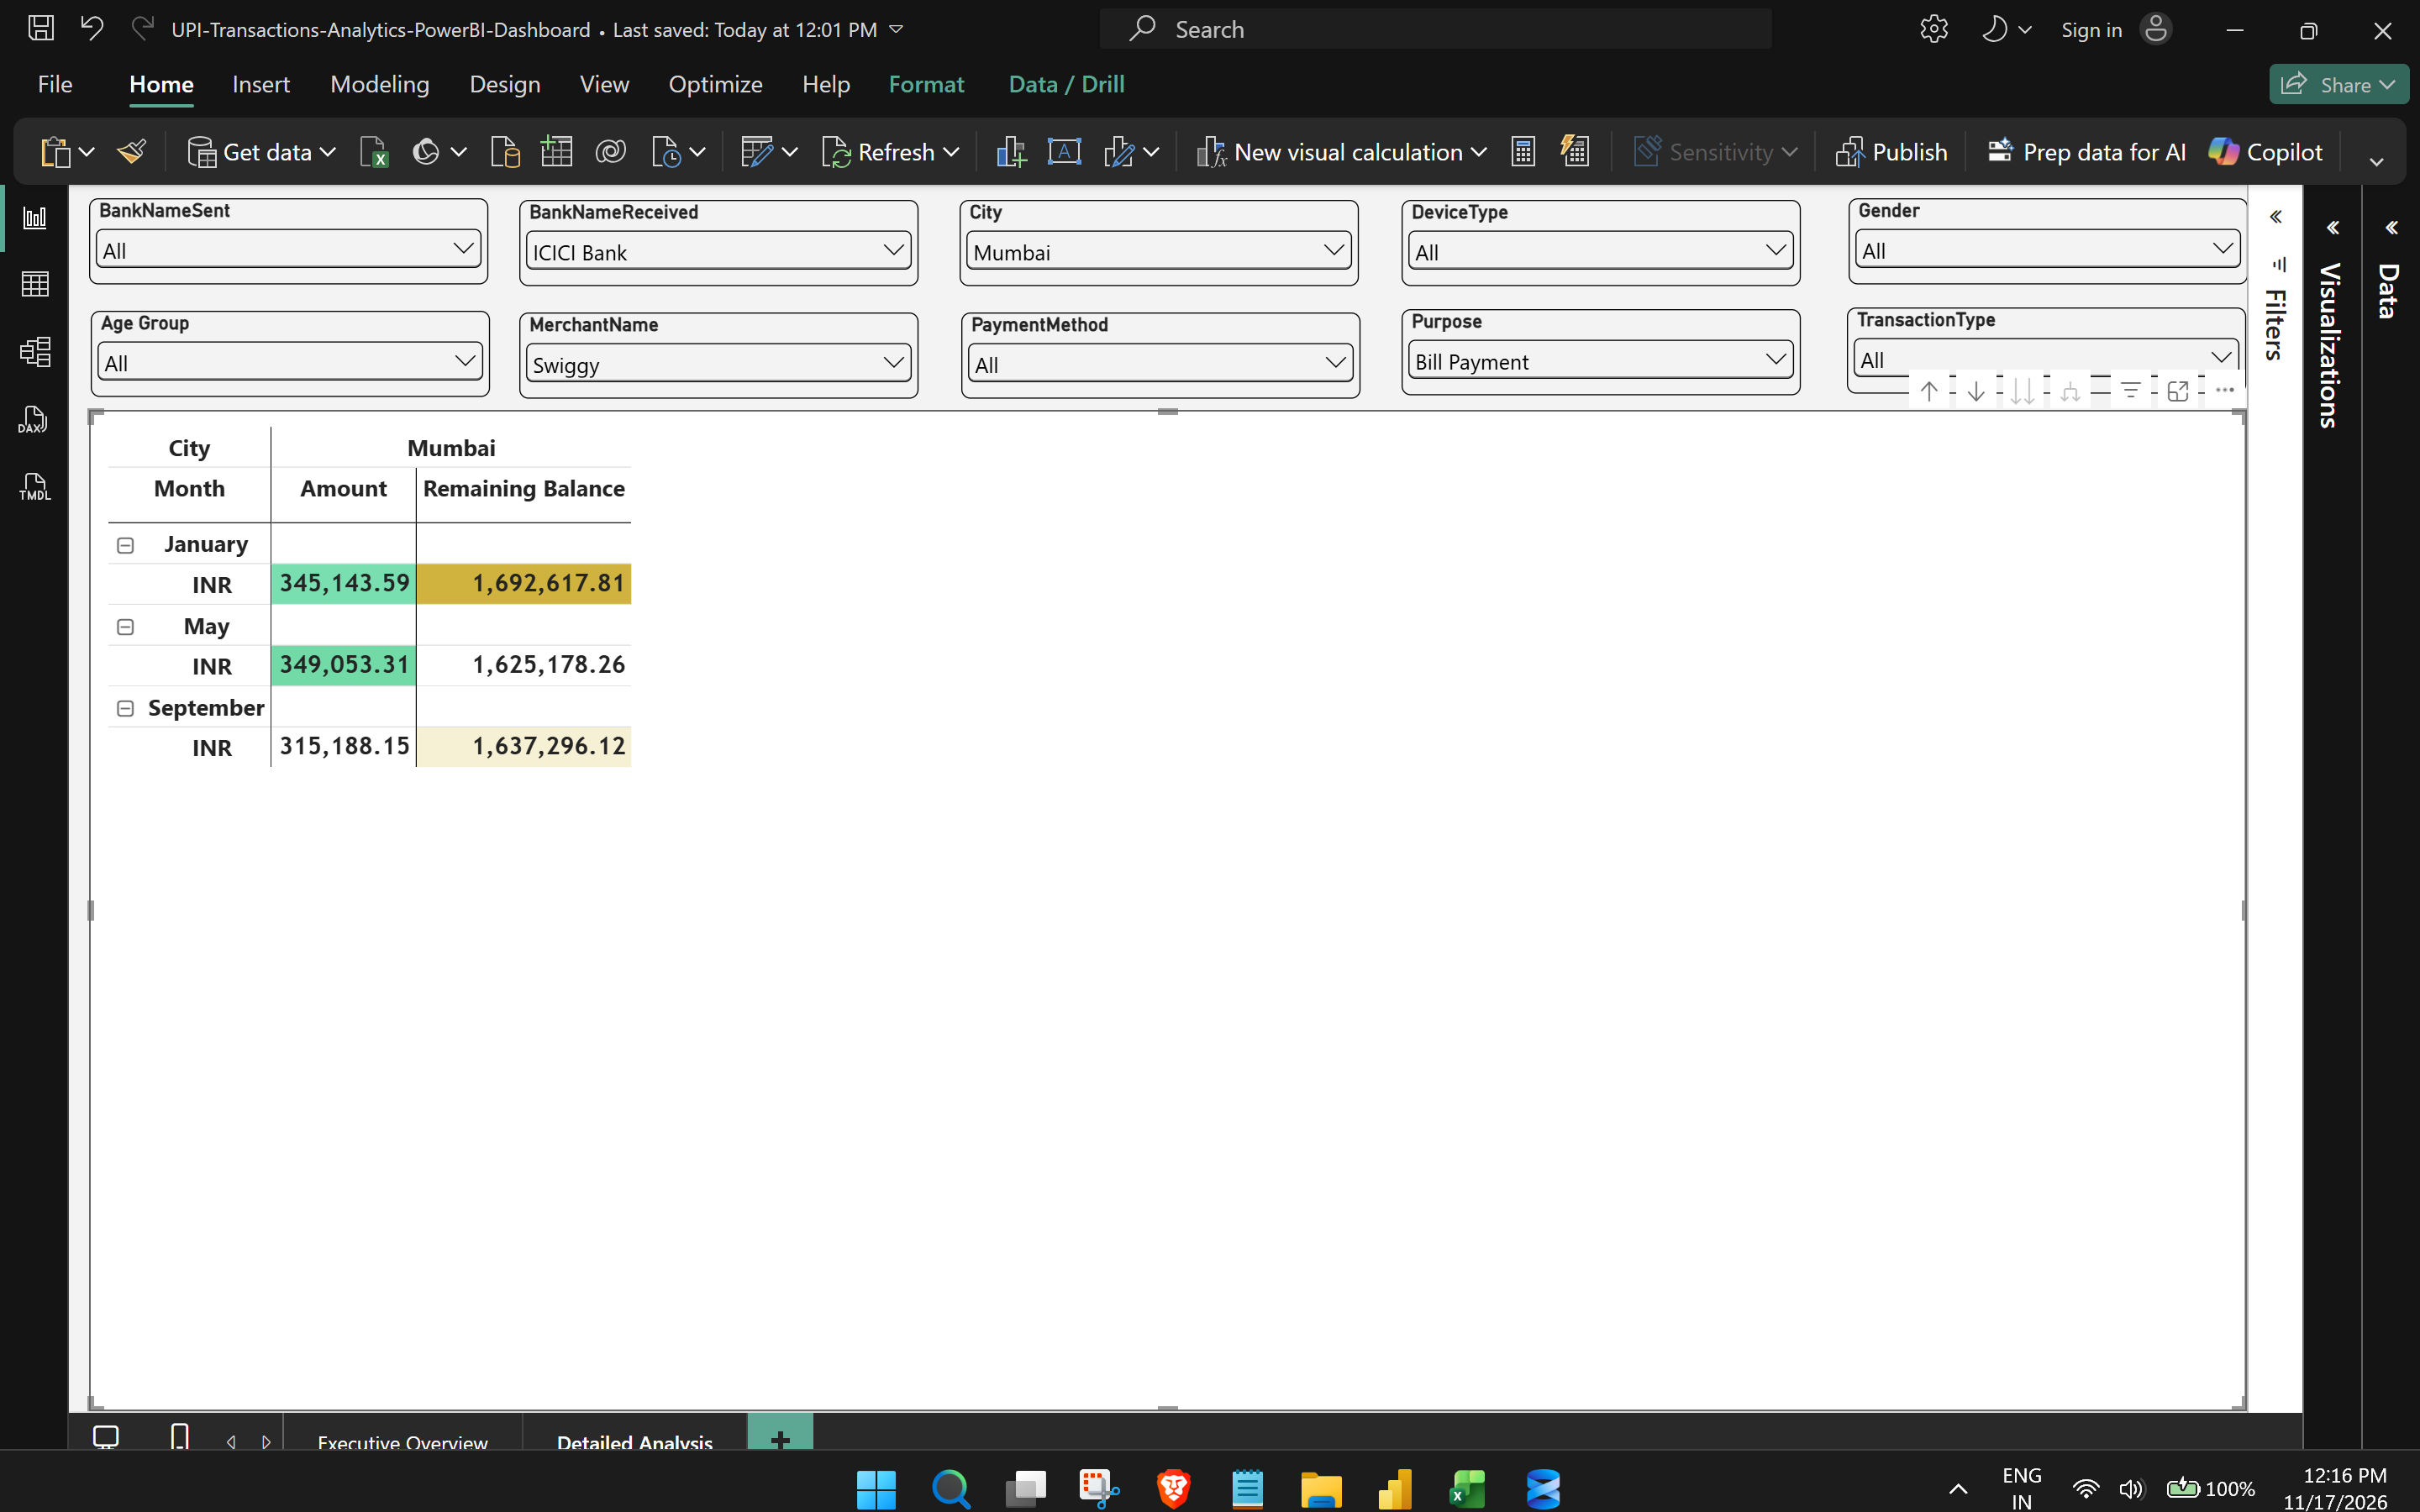

The page's visual inventory and layout, read from the dashboard file:
{"tool":"powerbi","page":{"name":"Detailed Analysis","canvas":[1920,1080],"ordinal":1},"visuals":[{"type":"slicer","fields":{"Values":["upi transection.BankNameReceived"]},"box":[397.6,11.4,351.8,75.9],"z":0},{"type":"slicer","fields":{"Values":["upi transection.BankNameSent"]},"box":[18.5,11.1,351.8,75.9],"z":1000},{"type":"slicer","fields":{"Values":["upi transection.DeviceType"]},"box":[1175,11.4,351.8,75.9],"z":2000},{"type":"slicer","fields":{"Values":["upi transection.City"]},"box":[785.5,11.4,351.8,75.9],"z":3000},{"type":"slicer","fields":{"Values":["upi transection.Gender"]},"box":[1568.2,11.1,351.8,75.9],"z":4000},{"type":"slicer","fields":{"Values":["upi transection.MerchantName"]},"box":[397.4,110.8,351.8,75.9],"z":5000},{"type":"slicer","fields":{"Values":["upi transection.Age Group"]},"box":[19.2,109.3,351.8,75.9],"z":6000},{"type":"slicer","fields":{"Values":["upi transection.Purpose"]},"box":[1174.6,107.9,351.8,75.9],"z":7000},{"type":"slicer","fields":{"Values":["upi transection.PaymentMethod"]},"box":[786,110.8,351.8,75.9],"z":8000},{"type":"slicer","fields":{"Values":["upi transection.TransactionType"]},"box":[1567.6,106.4,351.8,75.9],"z":9000},{"type":"pivotTable","fields":{"Columns":["upi transection.City"],"Rows":["upi transection.TransactionDate.Variation.Date Hierarchy.Month","upi transection.Currency"],"Values":["Sum(upi transection.Amount)","Sum(upi transection.RemainingBalance)"]},"box":[18.4,197,1901.6,883.2],"z":9001}]}

Visuals, with their boxes on the page's 1920x1080 design canvas (x1, y1, x2, y2). These are canvas units, not pixel positions in the 2420x1512 screenshot, which may show the page scaled, cropped or inside an application window:
slicer - upi transection.BankNameReceived: bbox=(398, 11, 749, 87)
slicer - upi transection.BankNameSent: bbox=(18, 11, 370, 87)
slicer - upi transection.DeviceType: bbox=(1175, 11, 1527, 87)
slicer - upi transection.City: bbox=(786, 11, 1137, 87)
slicer - upi transection.Gender: bbox=(1568, 11, 1920, 87)
slicer - upi transection.MerchantName: bbox=(397, 111, 749, 187)
slicer - upi transection.Age Group: bbox=(19, 109, 371, 185)
slicer - upi transection.Purpose: bbox=(1175, 108, 1526, 184)
slicer - upi transection.PaymentMethod: bbox=(786, 111, 1138, 187)
slicer - upi transection.TransactionType: bbox=(1568, 106, 1919, 182)
pivotTable - upi transection.City x upi transection.TransactionDate.Variation.Date Hierarchy.Month: bbox=(18, 197, 1920, 1080)
